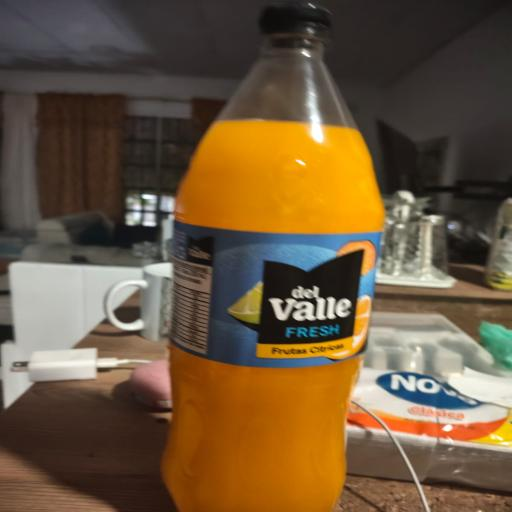Jugo del valle: (150, 0, 384, 512)
